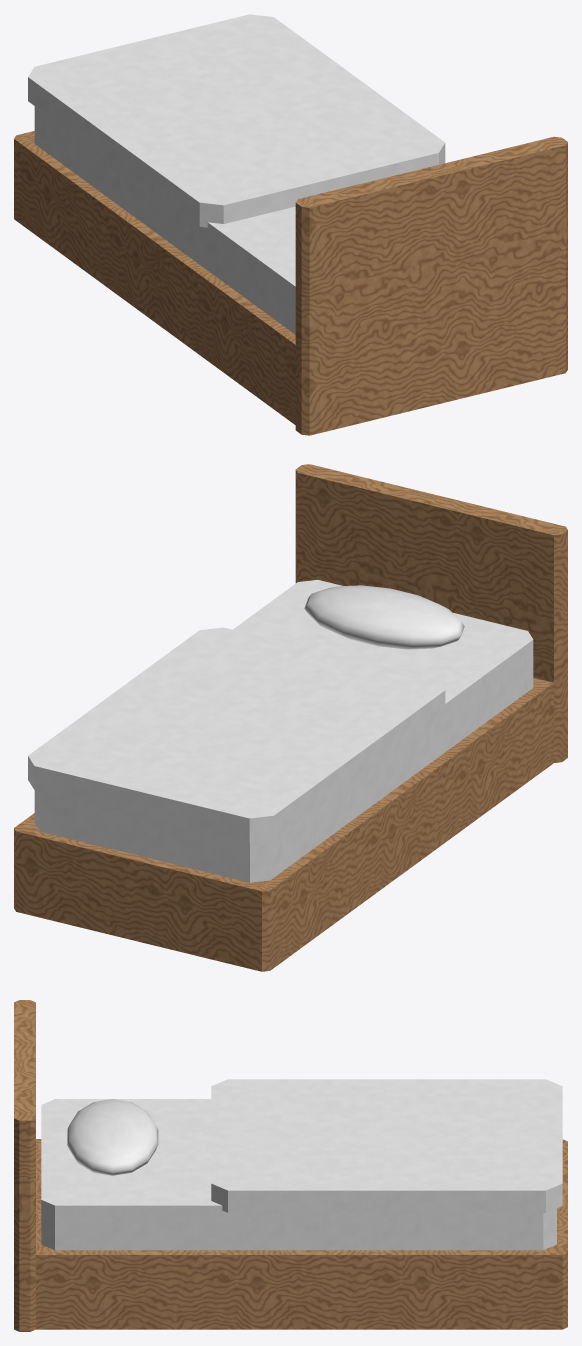
The model's file is bed_single.obj.
3 renders of one model, top to bottom at view 1: azimuth 30°, elevation 25°; view 2: azimuth 150°, elevation 25°; view 3: azimuth 270°, elevation 25°, orthographic. The views are drawn at different scales.
Parts seen in each view (by area): view 1: bed_single; view 2: bed_single; view 3: bed_single.
Part boxes in pixels (x1,y1,x2,y2): bed_single: (14, 14, 567, 435); bed_single: (14, 464, 567, 971); bed_single: (14, 1000, 567, 1331).
Bounding box in the file's own units: 1.04 × 0.85 × 2.02.
4 materials, 4 textured.
